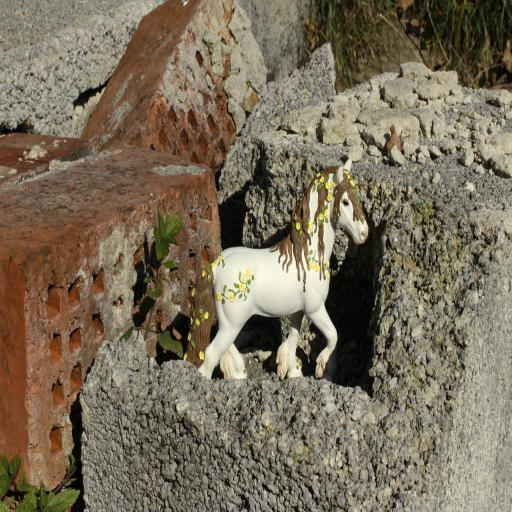horse: (182, 154, 370, 380)
